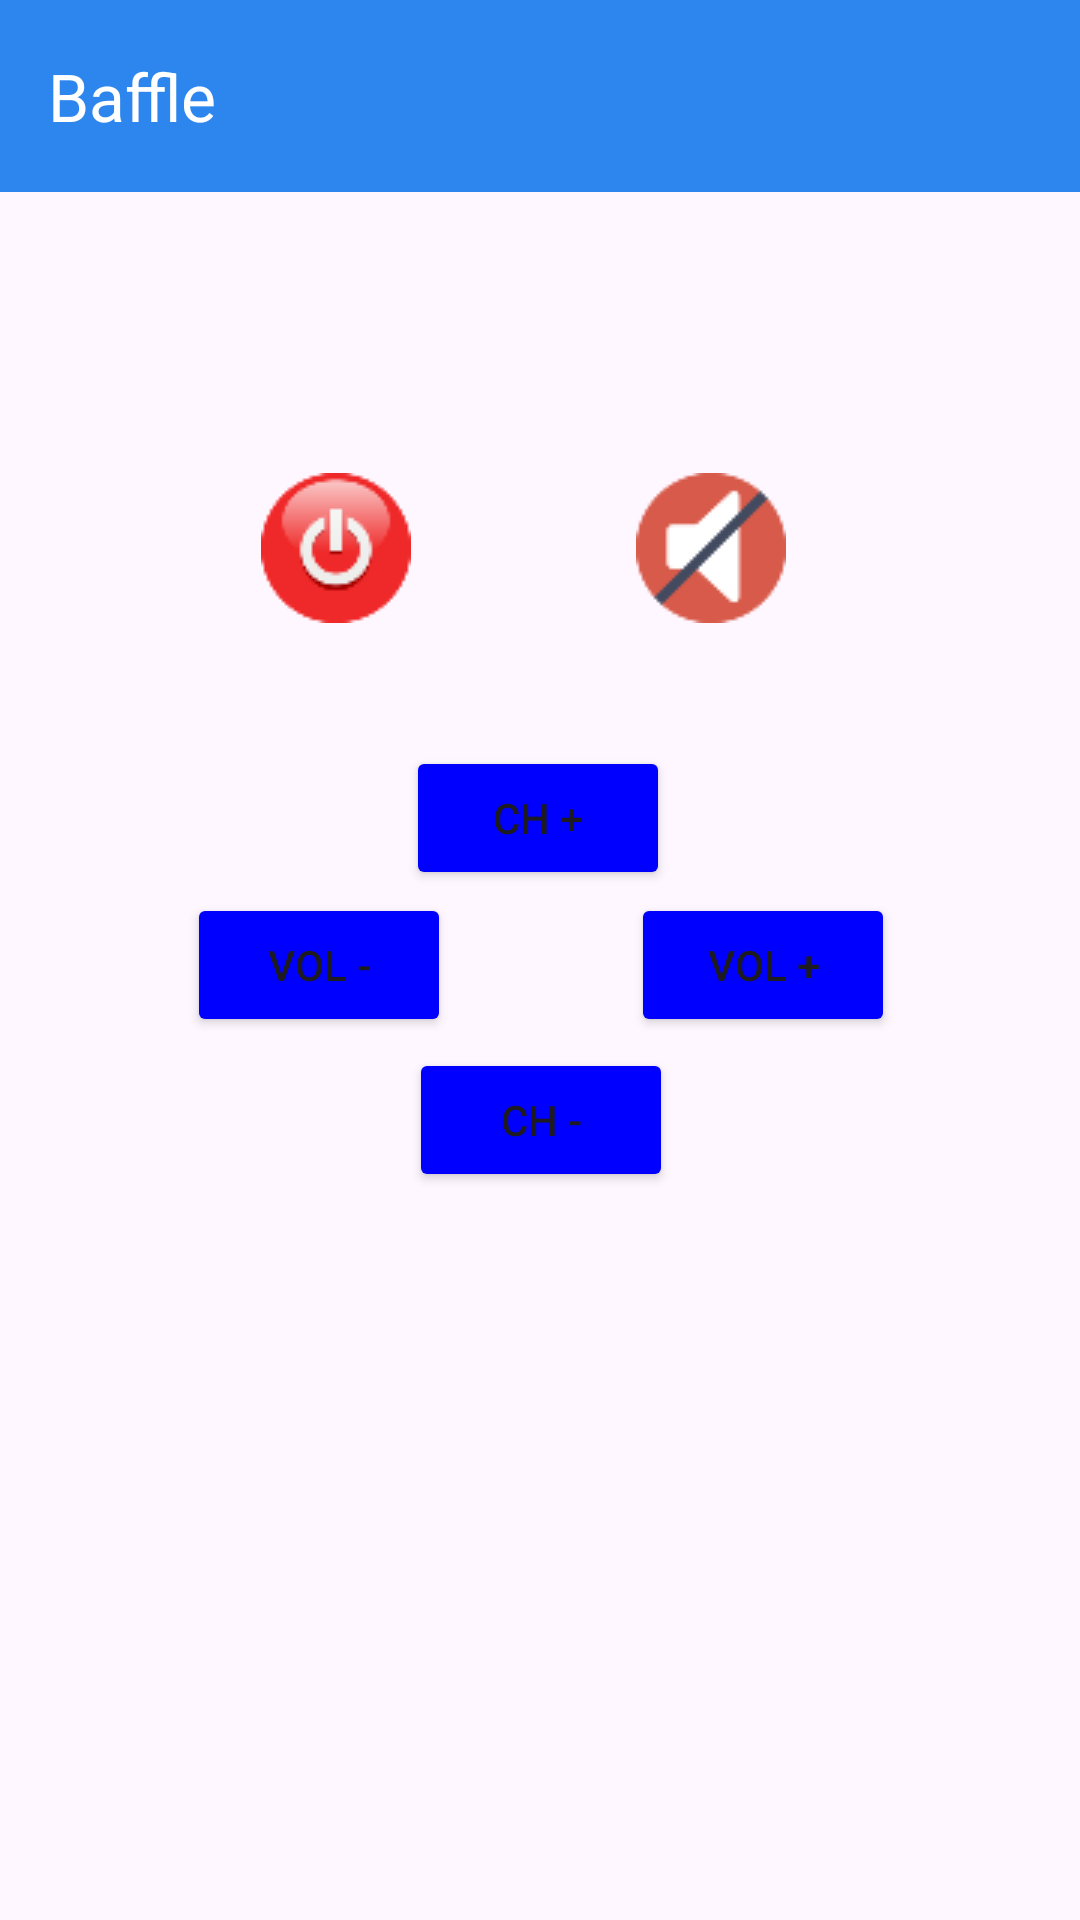

Screen size 1080*1920. Icon name, then its center in pixels as (x,y):
bouton: (336,548)
muet: (711,548)
